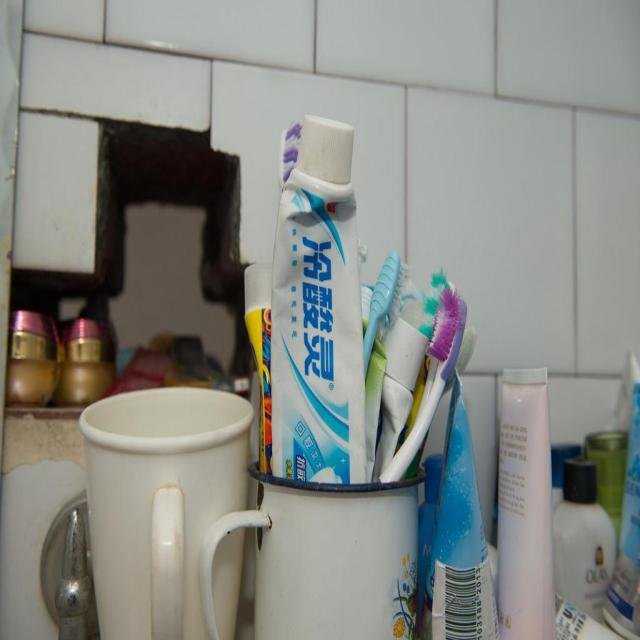Toothpaste: (269, 106, 372, 482)
